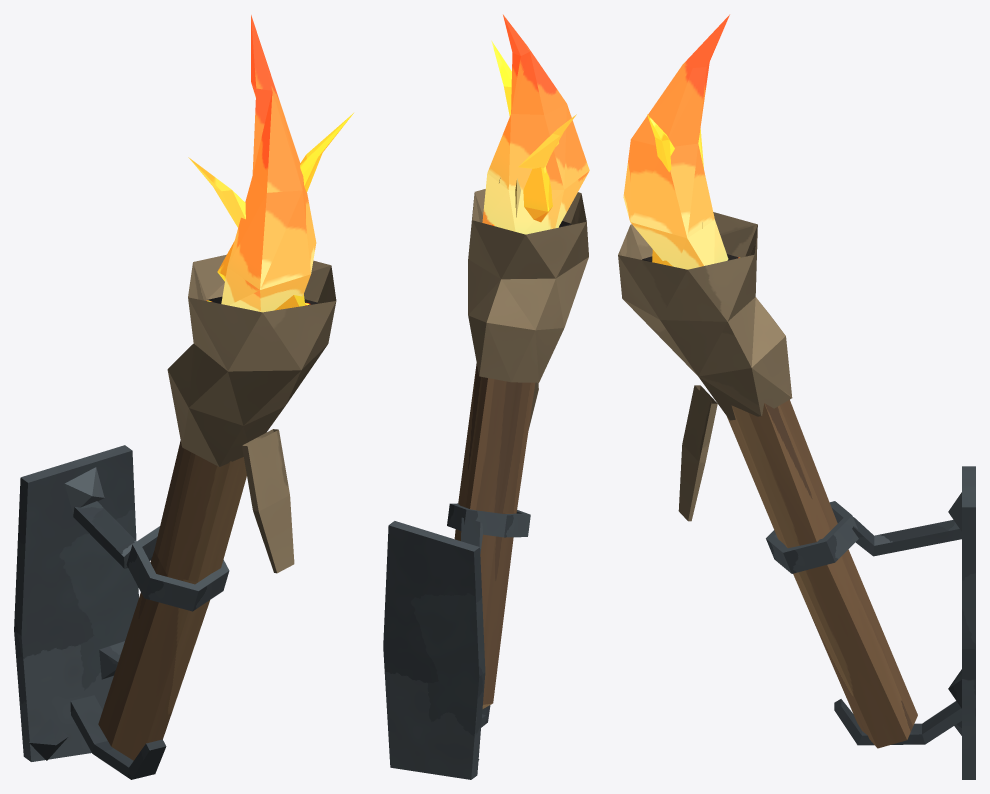
The model's file is SM_WallTorch.fbx.
3 renders of one model, left to right at view 1: azimuth 30°, elevation 25°; view 2: azimuth 150°, elevation 25°; view 3: azimuth 270°, elevation 25°, orthographic. The views are drawn at different scales.
Parts seen in each view (by area): view 1: SM_WallTorch, SM_WallTorch_Flame; view 2: SM_WallTorch, SM_WallTorch_Flame; view 3: SM_WallTorch, SM_WallTorch_Flame.
Boxes of the visible parts, <box> form: SM_WallTorch: <box>14,254,336,779</box>; SM_WallTorch_Flame: <box>188,15,353,312</box>; SM_WallTorch: <box>383,189,588,779</box>; SM_WallTorch_Flame: <box>482,14,589,234</box>; SM_WallTorch: <box>618,212,975,779</box>; SM_WallTorch_Flame: <box>623,14,729,269</box>.
Bounding box in the file's own units: 0.1499 × 0.7255 × 0.3081.
